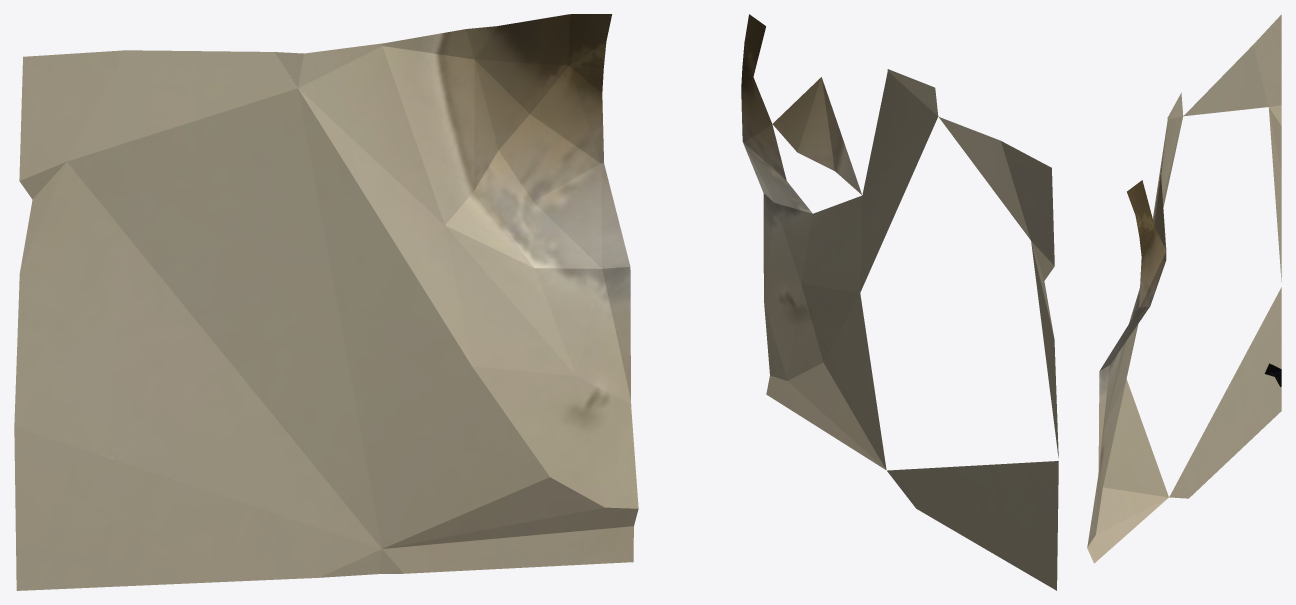
The picture shows the model from 3 angles, left to right: view 1: azimuth 30°, elevation 25°; view 2: azimuth 150°, elevation 25°; view 3: azimuth 270°, elevation 25°; orthographic projection. The views are drawn at different scales.
Bounding box in the file's own units: 0.8135 × 0.8374 × 0.3699.
Materials: 3 (3 with a texture image).
